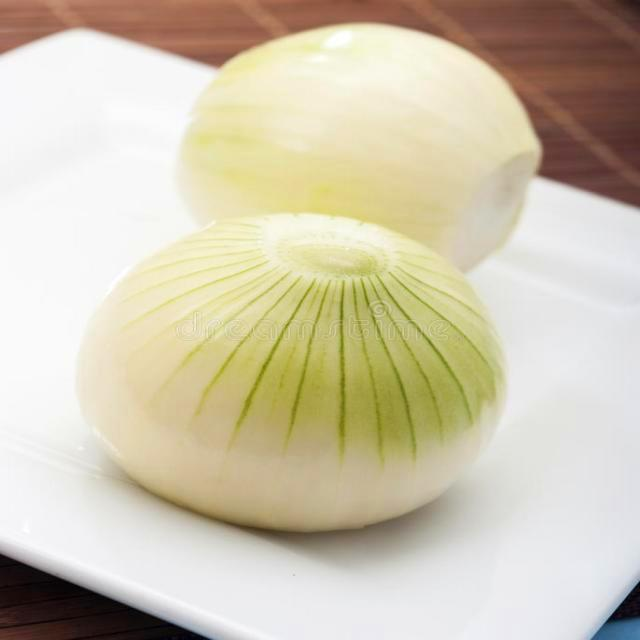onion: (81, 209, 513, 539), (173, 16, 540, 305)
